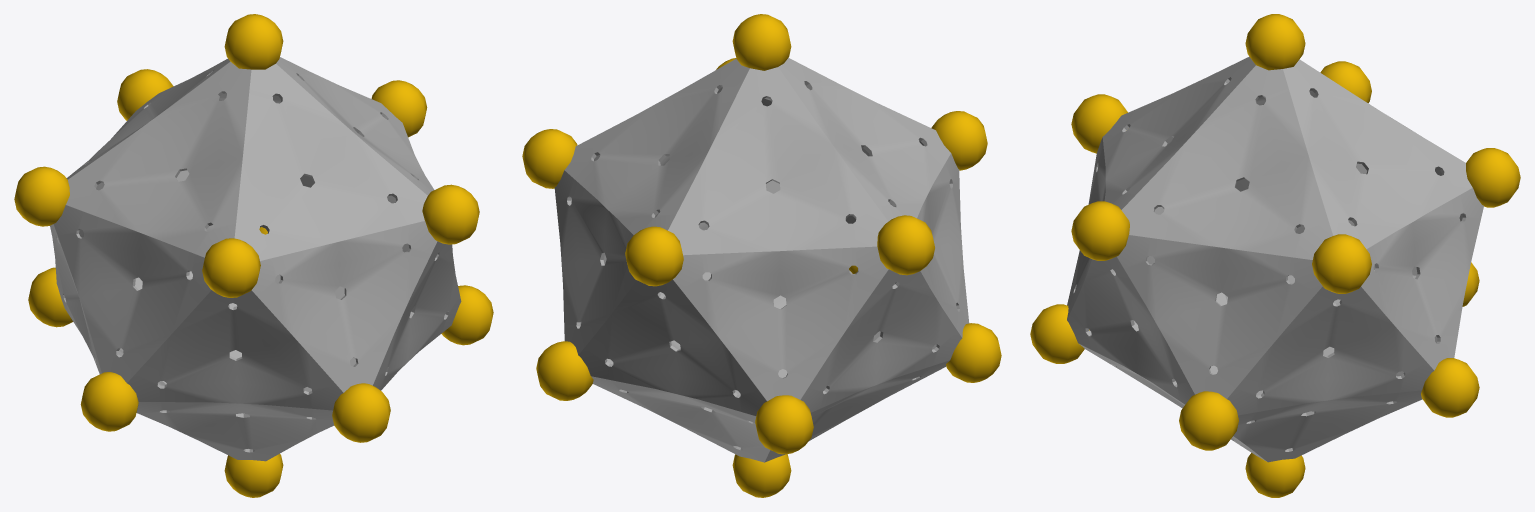
Rendered from Artifact_low.fbx.
3 views of the same model, side by side, from view 1: azimuth 30°, elevation 25°; view 2: azimuth 150°, elevation 25°; view 3: azimuth 270°, elevation 25° (orthographic).
Parts seen in each view (by area): view 1: Artifact_low, Spheres_low; view 2: Artifact_low, Spheres_low; view 3: Artifact_low, Spheres_low.
Boxes of the visible parts, bbox=[...] form: Artifact_low: bbox=[50, 57, 461, 461]; Spheres_low: bbox=[14, 14, 493, 497]; Artifact_low: bbox=[554, 58, 969, 462]; Spheres_low: bbox=[522, 14, 1001, 497]; Artifact_low: bbox=[1067, 56, 1483, 462]; Spheres_low: bbox=[1030, 14, 1520, 497].
Size of the model in its own units: 10.86 by 12.3 by 11.42.
